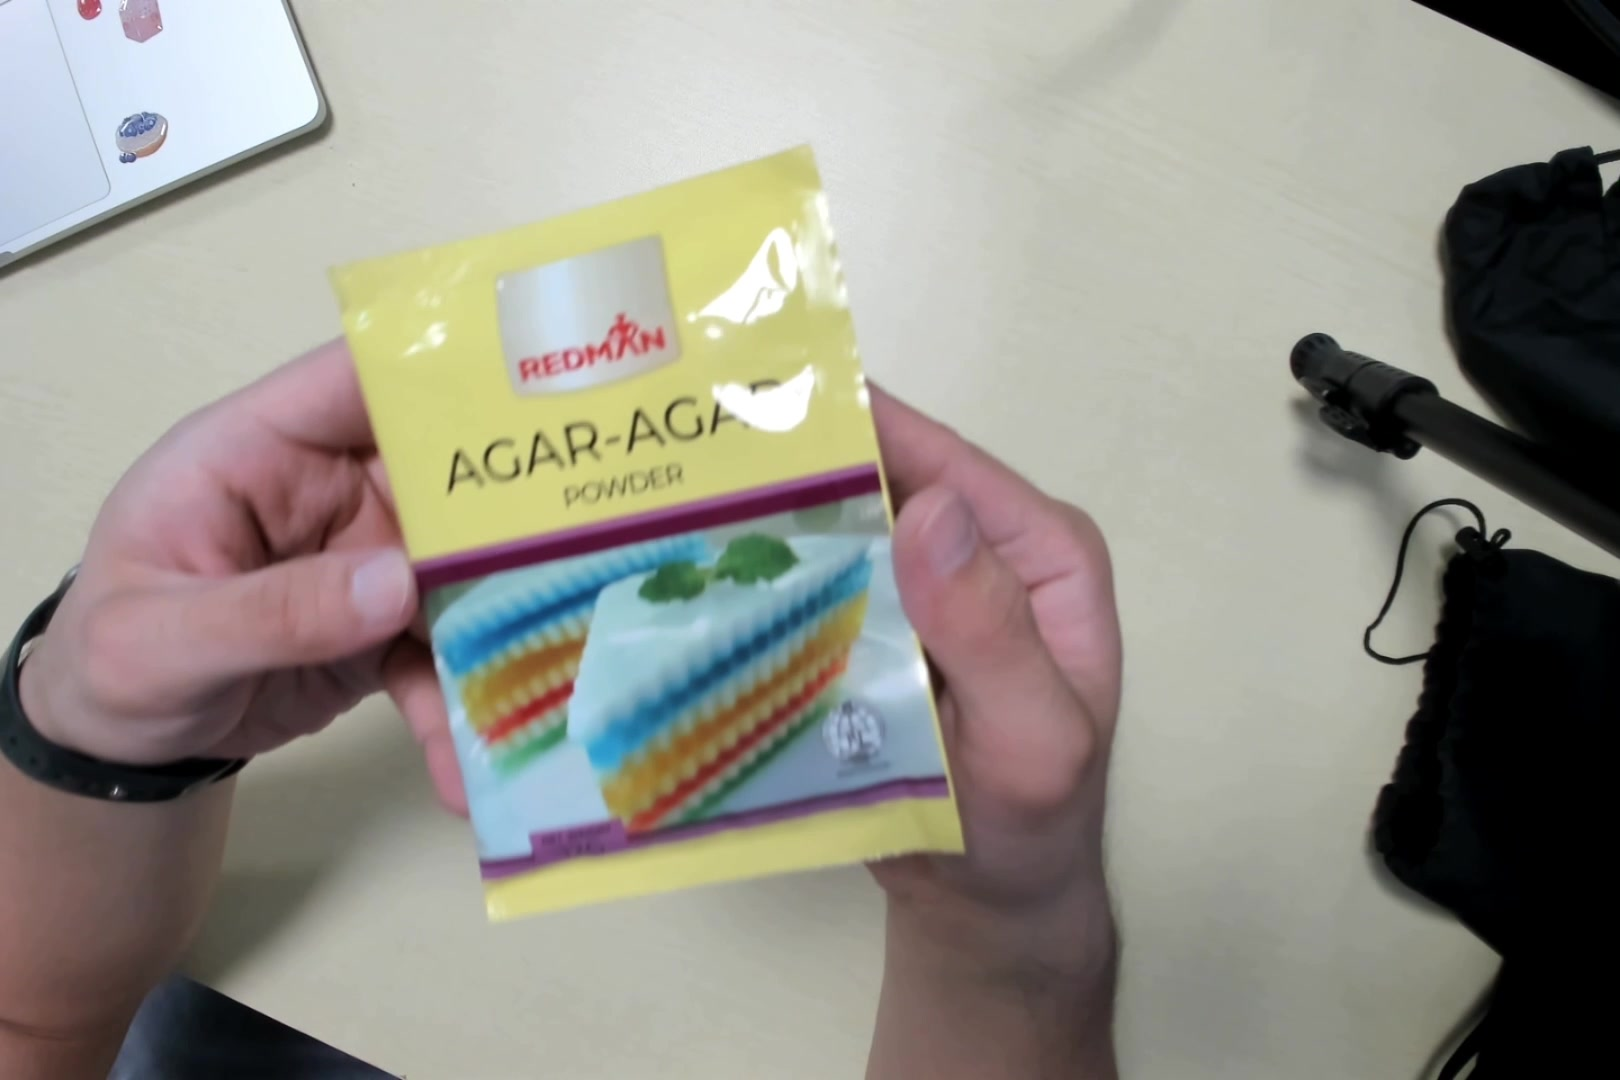OtherBakingNeeds_0-99g_Halal_NonHealthy: (375, 169, 937, 906)
